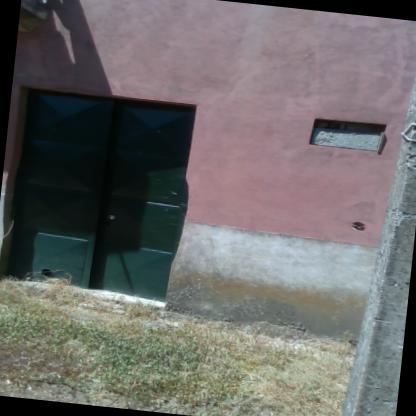closed: (0, 70, 209, 309)
